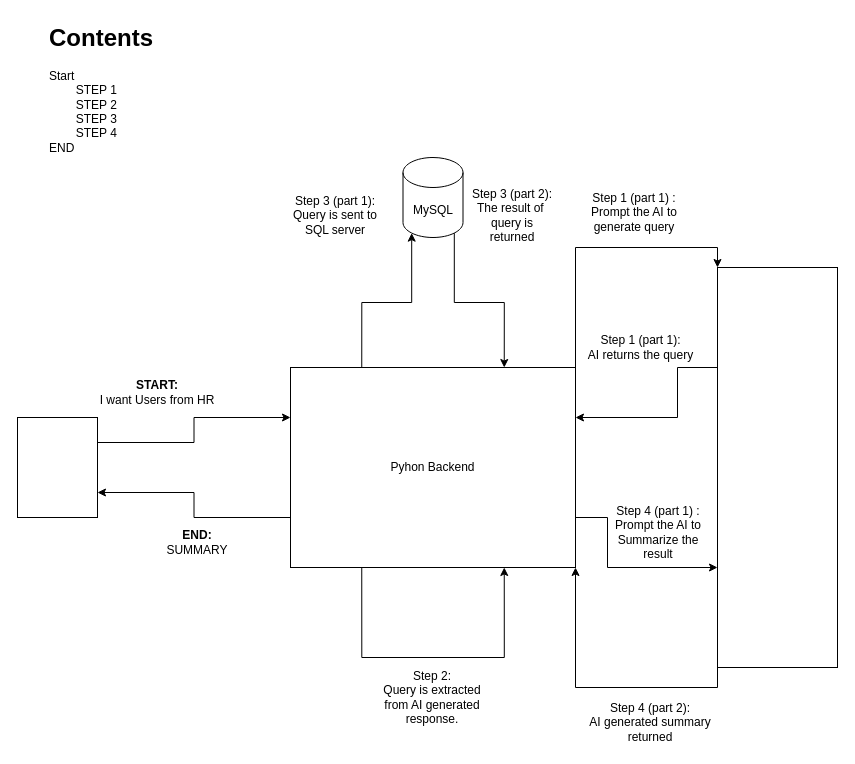
Image size: 855x764. Some labels were removed from this diagram. Each missing label, with the centre of its shape:
AI: point (777, 467)
USER: point (57, 467)
